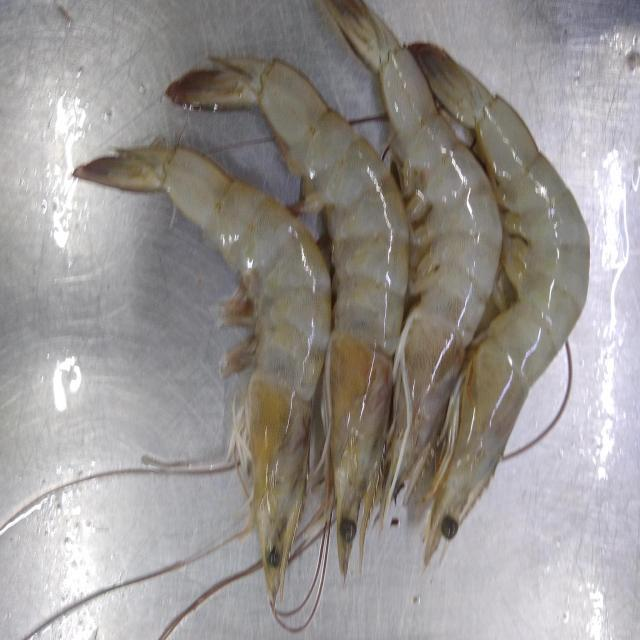shrimp: (166, 56, 409, 578), (74, 145, 331, 607), (409, 42, 591, 566), (326, 0, 503, 519)
